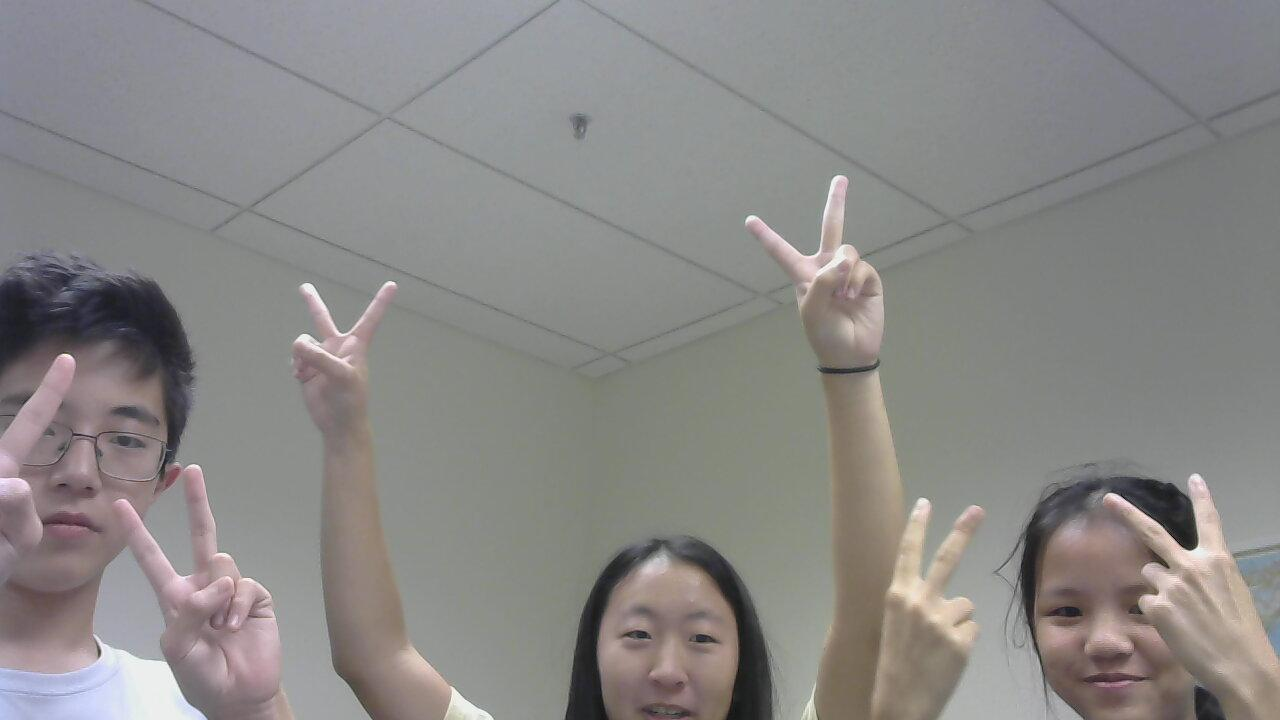peace: (101, 467, 296, 708), (1110, 476, 1280, 719), (733, 172, 904, 395), (881, 497, 999, 720), (281, 272, 429, 425)
